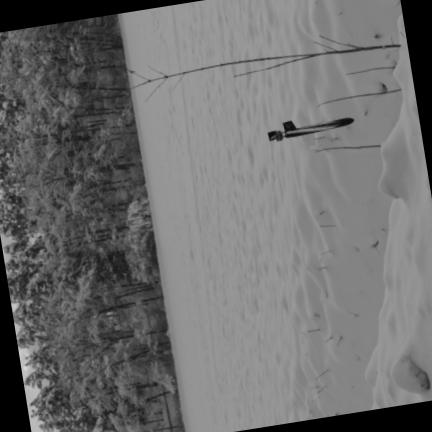Shahed: (268, 117, 353, 140)
